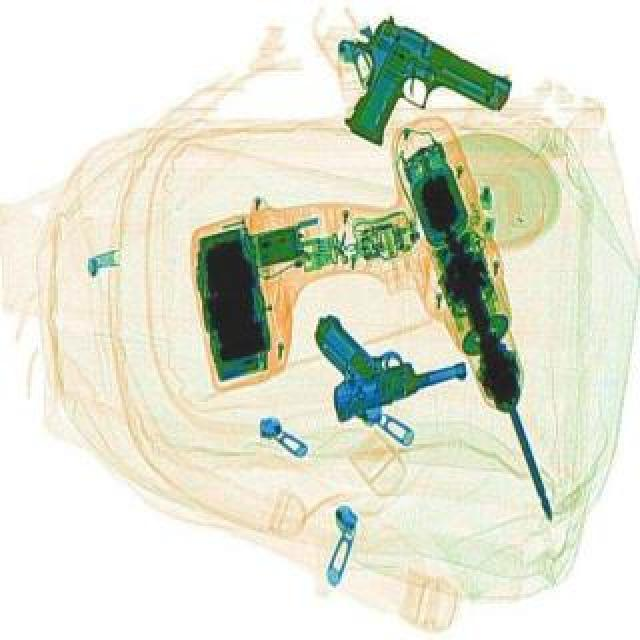gun: (310, 12, 522, 192), (300, 286, 472, 428)
